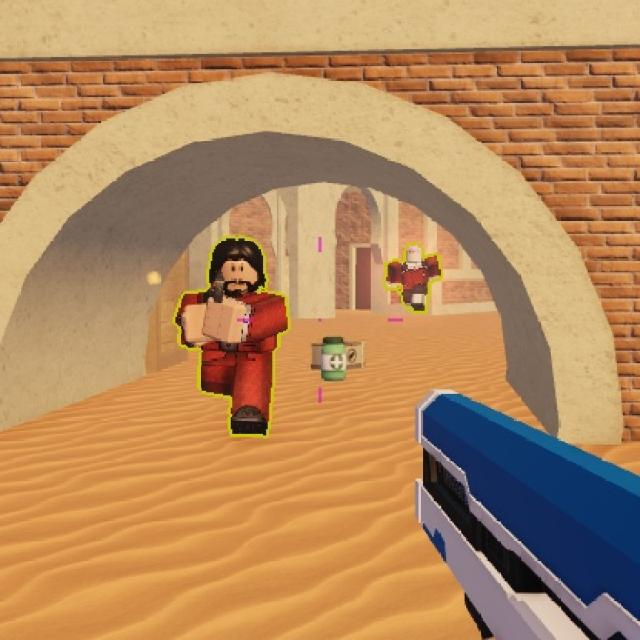player: (192, 231, 283, 451), (395, 243, 435, 317)
